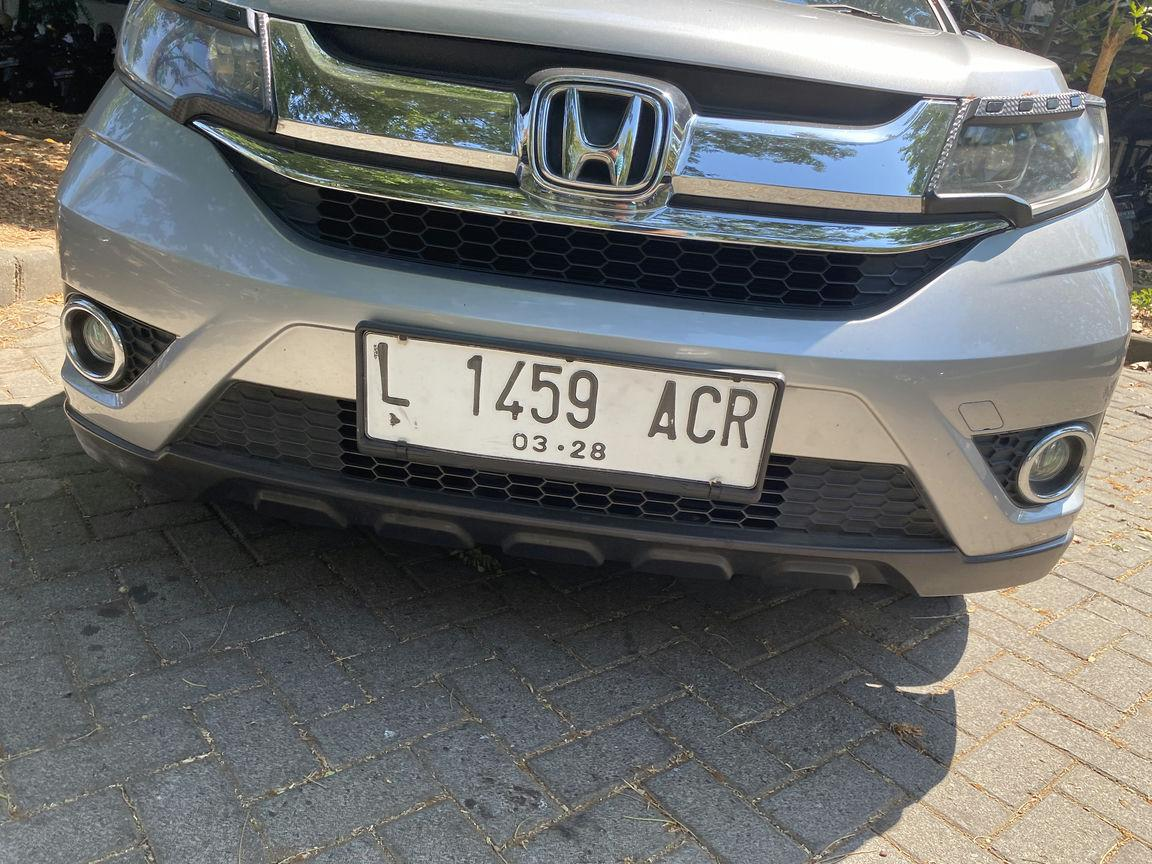plat: (360, 331, 778, 491)
